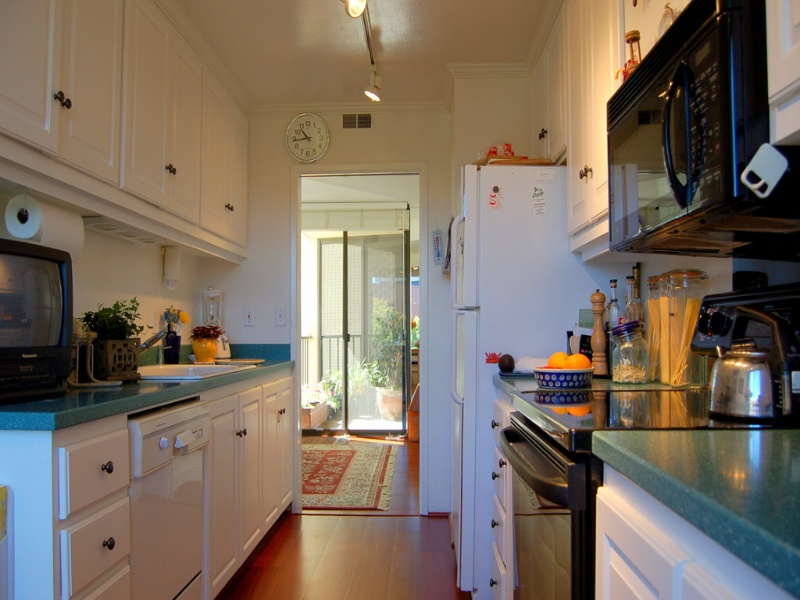oven: (601, 18, 773, 239)
refrigerator: (442, 157, 522, 597)
tv: (1, 234, 81, 399)
